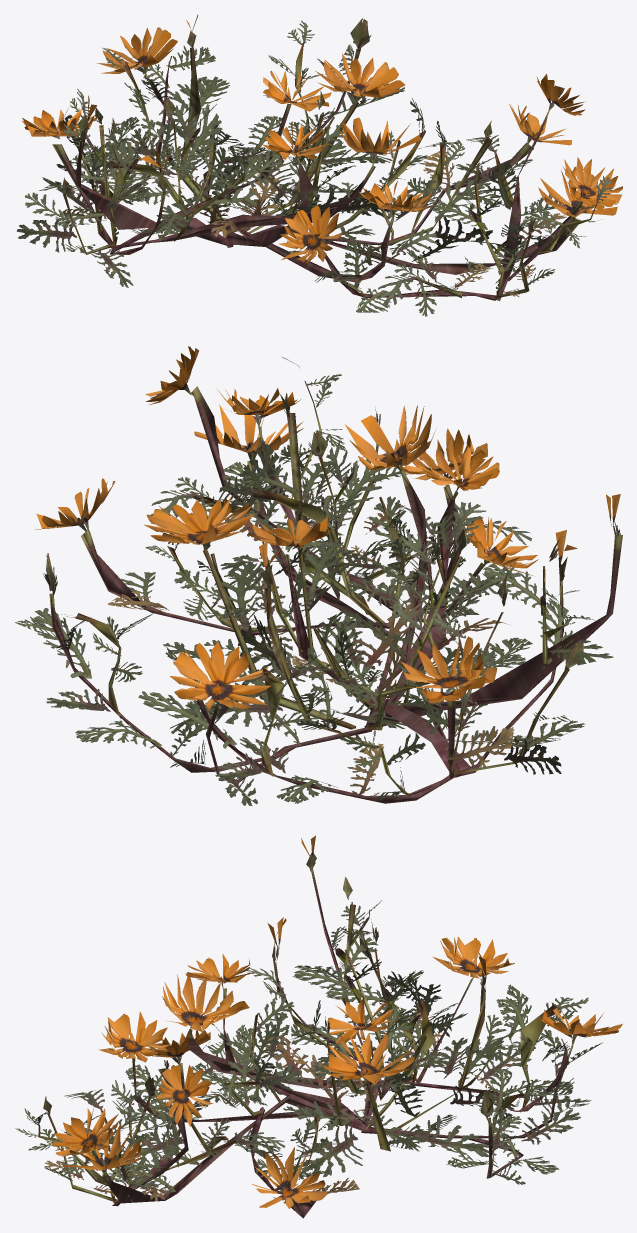
The model's file is veg-flower-ursinia-aa131ccc63ef.glb.
3 renders of one model, top to bottom at view 1: azimuth 30°, elevation 25°; view 2: azimuth 150°, elevation 25°; view 3: azimuth 270°, elevation 25°, orthographic. The views are drawn at different scales.
Parts seen in each view (by area): view 1: veg-flower-ursinia; view 2: veg-flower-ursinia; view 3: veg-flower-ursinia.
Boxes of the visible parts, left/top/right/bottom form: veg-flower-ursinia: left=17, top=14, right=622, bottom=316; veg-flower-ursinia: left=15, top=346, right=622, bottom=805; veg-flower-ursinia: left=15, top=835, right=622, bottom=1218.
Size of the model in its own units: 0.787 by 0.32 by 0.8188.
Materials: 1 (1 with a texture image).
